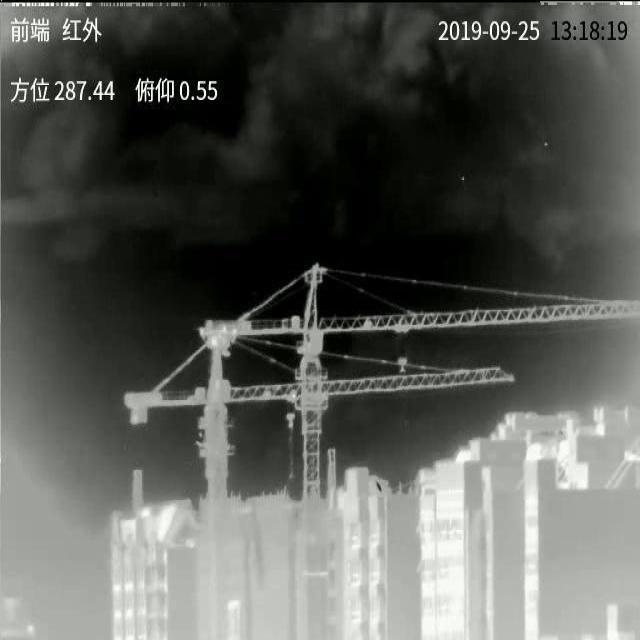drone: (199, 326, 240, 358)
